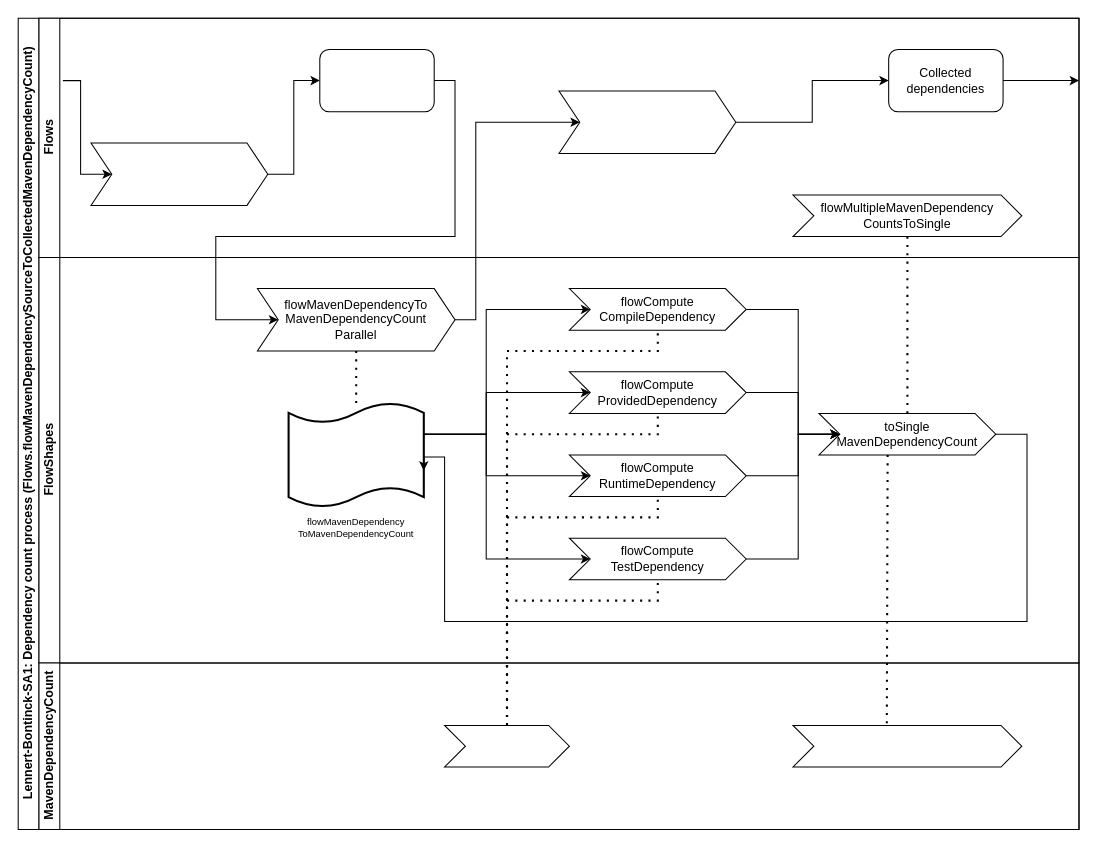
Some shapes in this 1106 by 848 pixel diagram are drawn without their labels. Each missing label, with the centre of its shape:
"apply" belongs at [506,745].
"FlowShape performing the counting and creation of MDC objects" belongs at [355,454].
"Groups of libraries" belongs at [376,80].
"Make substreams grouped by library name" belongs at [179,173].
"Merge substreams" belongs at [647,121].
"mergeMavenDependencyCount" belongs at [907,745].
